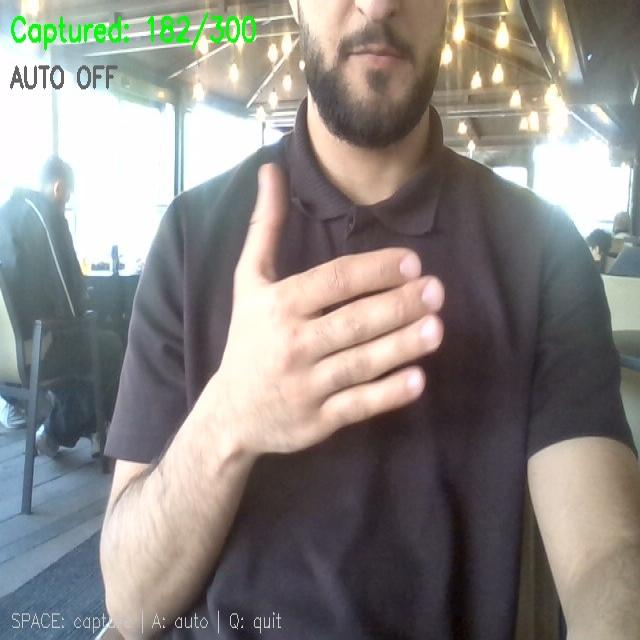Hand: (205, 164, 443, 455)
